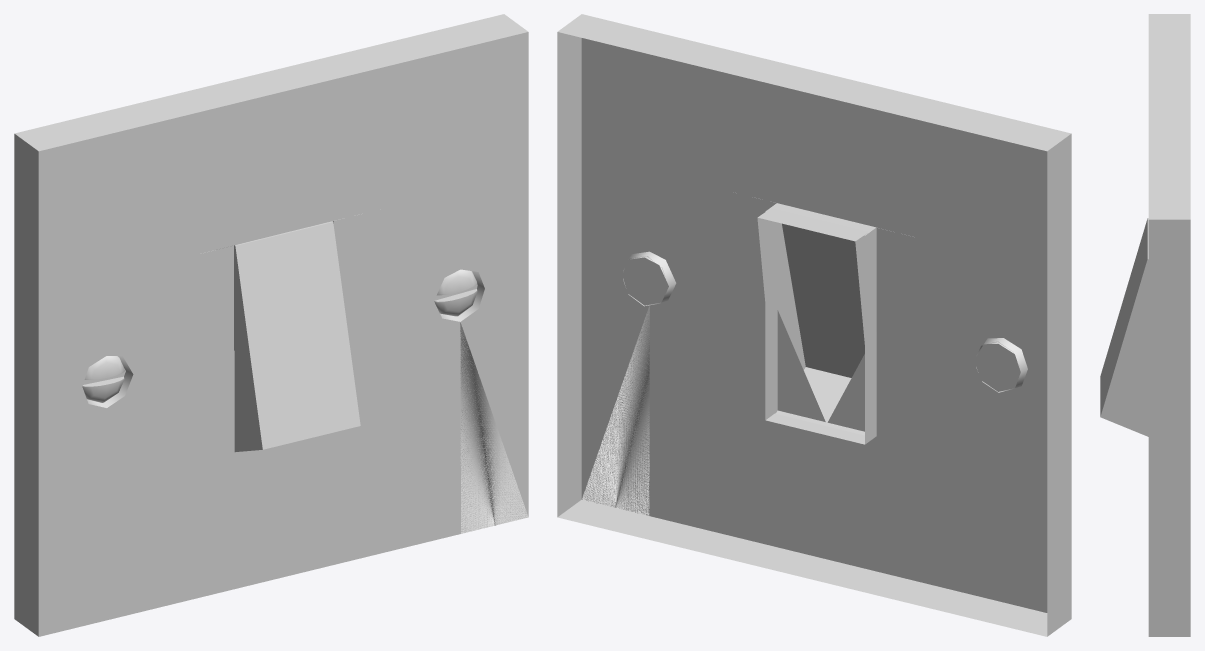
Rendered from light_switch.obj.
3 renders of one model, left to right at view 1: azimuth 30°, elevation 25°; view 2: azimuth 150°, elevation 25°; view 3: azimuth 270°, elevation 25°, orthographic. The views are drawn at different scales.
Visible parts, largest first — view 1: light_switch; view 2: light_switch; view 3: light_switch.
Part boxes in pixels (x1,y1,x2,y2): light_switch: [14, 14, 528, 636]; light_switch: [557, 14, 1071, 636]; light_switch: [1100, 14, 1190, 636].
Size of the model in its own units: 0.086 by 0.0815 by 0.016.
